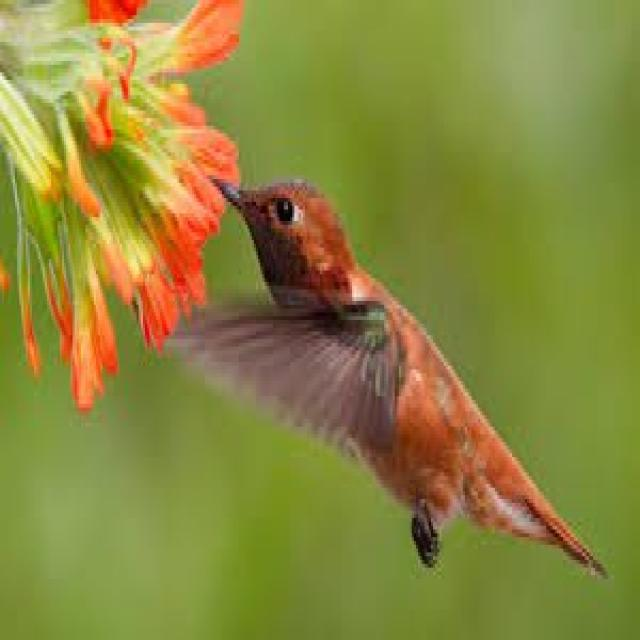Humming Bird: (161, 166, 612, 594)
